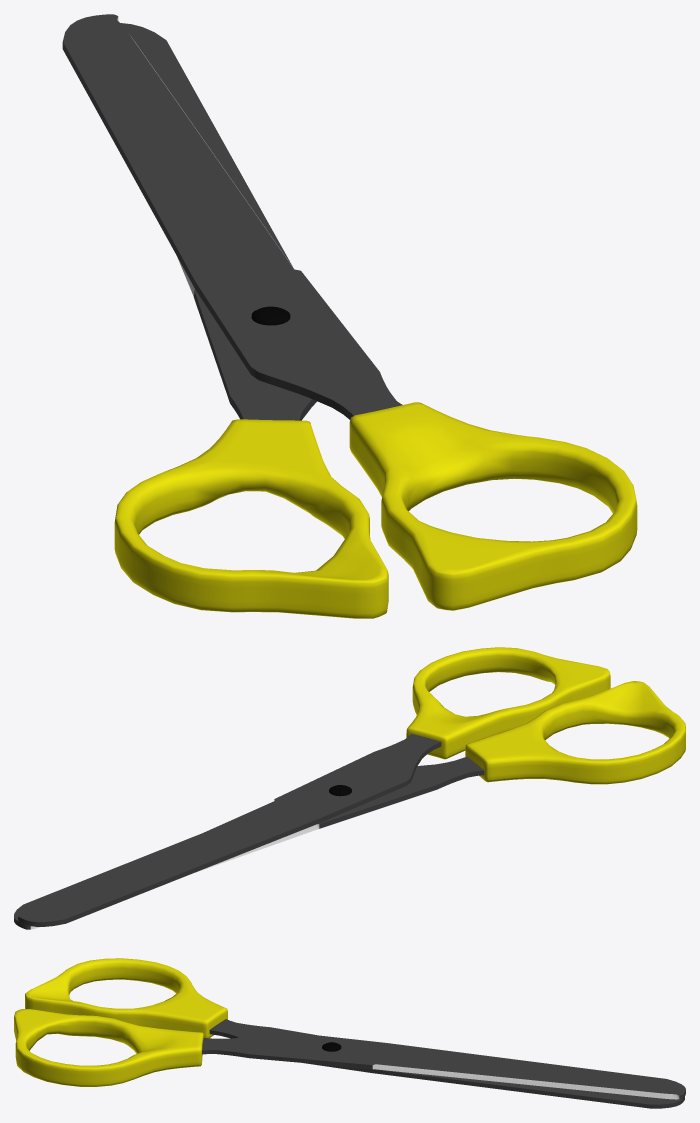
The model's file is Scissors_FBX.FBX.
3 views of the same model, one above another, from view 1: azimuth 30°, elevation 25°; view 2: azimuth 150°, elevation 25°; view 3: azimuth 270°, elevation 25° (orthographic). The views are drawn at different scales.
Parts seen in each view (by area): view 1: Body, Steel 1, Steel 2; view 2: Body, Steel 1, Steel 2, Lama 2; view 3: Body, Steel 1, Steel 2, Lama 1.
Part boxes in pixels (x1=…): Body: x1=114, y1=402, x2=637, y2=618; Steel 1: x1=62, y1=14, x2=402, y2=419; Steel 2: x1=120, y1=23, x2=316, y2=420; Body: x1=406, y1=647, x2=685, y2=784; Steel 1: x1=18, y1=733, x2=441, y2=926; Steel 2: x1=14, y1=757, x2=484, y2=929; Lama 2: x1=30, y1=824, x2=319, y2=929; Body: x1=14, y1=958, x2=227, y2=1086; Steel 1: x1=202, y1=1032, x2=685, y2=1099; Steel 2: x1=209, y1=1019, x2=684, y2=1108; Lama 1: x1=372, y1=1064, x2=679, y2=1099.
Bounding box in the file's own units: 2.68 × 0.1798 × 5.54.
